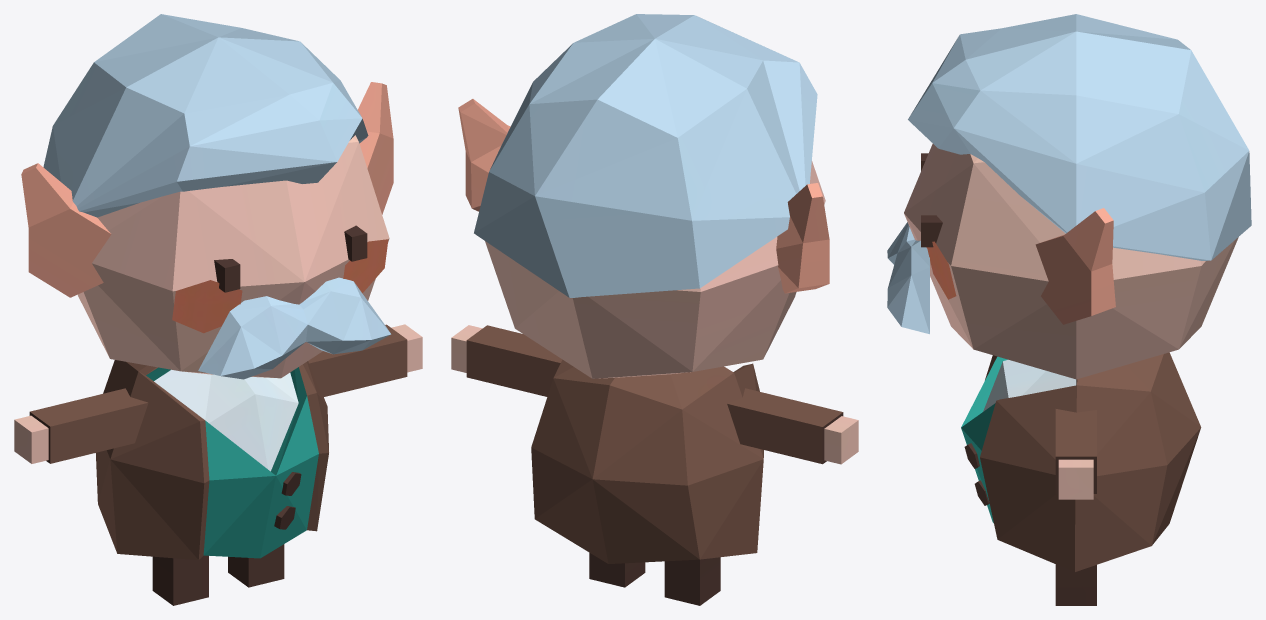
File: 3D-Anciano.fbx
3 views of the same model, side by side, from view 1: azimuth 30°, elevation 25°; view 2: azimuth 150°, elevation 25°; view 3: azimuth 270°, elevation 25° (orthographic).
Parts seen in each view (by area): view 1: AncianoFinal; view 2: AncianoFinal; view 3: AncianoFinal.
Part boxes in pixels (bbox=[...]): AncianoFinal: bbox=[14, 14, 422, 605]; AncianoFinal: bbox=[451, 14, 858, 605]; AncianoFinal: bbox=[887, 14, 1251, 605].
Bounding box in the file's own units: 220 × 294 × 177.
1 material, 1 textured.
